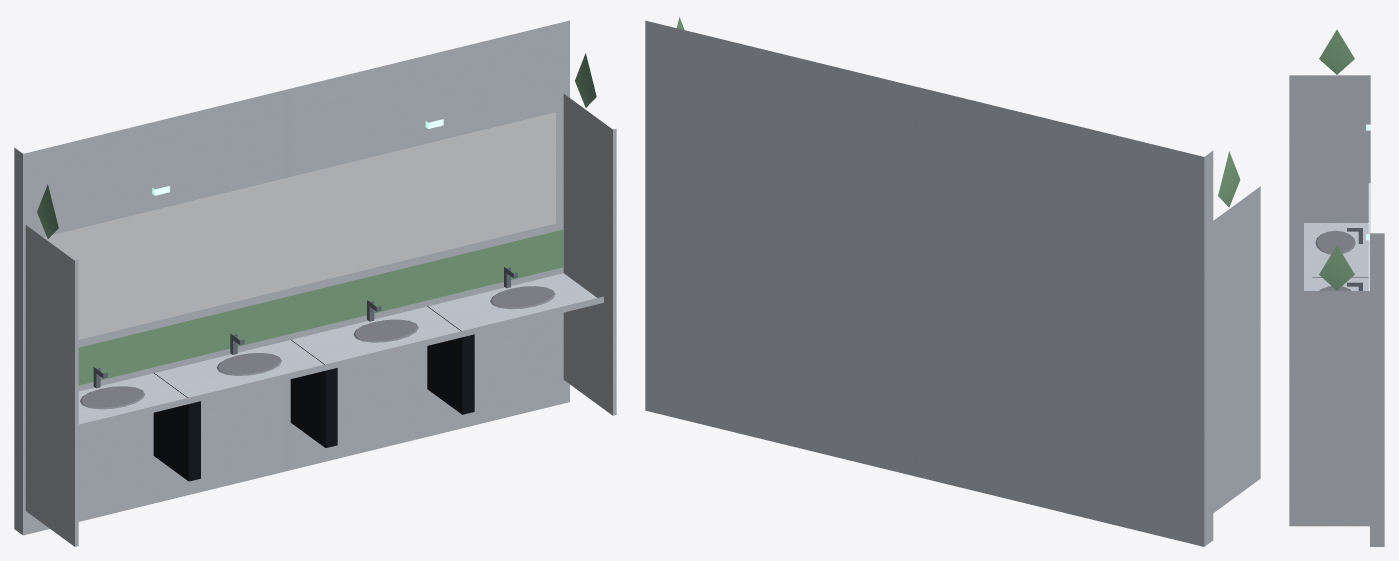
File: tt_restroom_basin.glb
The picture shows the model from 3 angles, left to right: view 1: azimuth 30°, elevation 25°; view 2: azimuth 150°, elevation 25°; view 3: azimuth 270°, elevation 25°; orthographic projection. The views are drawn at different scales.
Parts seen in each view (by area): view 1: Wet_Wall, Mirror, End_Fins, Splash_Panel, Counter, Counter_Brackets, Basin_Bowl, Leaf_Crests, Taps; view 2: Wet_Wall, End_Fins, Leaf_Crests; view 3: End_Fins, Wet_Wall, Counter, Leaf_Crests, Basin_Bowl, Mirror, Taps.
Boxes of the visible parts, box(x1,y1,x2,y2) form: Wet_Wall: box(14, 20, 569, 535); Mirror: box(43, 112, 555, 339); End_Fins: box(25, 94, 616, 546); Splash_Panel: box(78, 229, 563, 385); Counter: box(78, 273, 603, 430); Counter_Brackets: box(153, 306, 474, 481); Basin_Bowl: box(80, 286, 555, 409); Leaf_Crests: box(37, 53, 596, 238); Taps: box(93, 267, 517, 388); Wet_Wall: box(645, 20, 1213, 546); End_Fins: box(1213, 186, 1260, 512); Leaf_Crests: box(677, 17, 1240, 207); End_Fins: box(1289, 75, 1370, 526); Wet_Wall: box(1370, 233, 1384, 546); Counter: box(1304, 223, 1368, 290); Leaf_Crests: box(1319, 30, 1354, 290); Basin_Bowl: box(1315, 230, 1355, 290); Mirror: box(1368, 183, 1370, 290); Taps: box(1347, 228, 1362, 290).
Size of the model in its own units: 3.6 by 2.4 by 0.66.
Materials: 7 (3 with a texture image).
